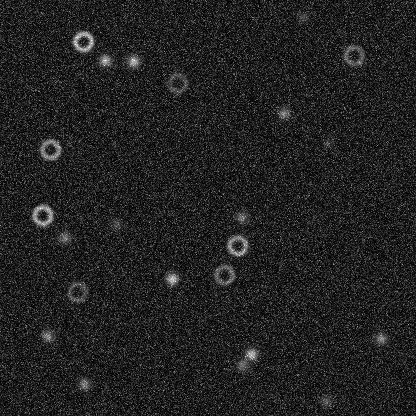Ring: (165, 70, 189, 94), (225, 233, 249, 257), (38, 137, 62, 161), (212, 262, 236, 286), (71, 29, 95, 53), (65, 279, 89, 303), (30, 203, 54, 227), (341, 43, 365, 67)
Spot: (56, 229, 72, 245), (108, 216, 124, 232), (319, 134, 335, 150), (125, 53, 141, 69), (163, 270, 179, 286), (373, 330, 389, 346), (233, 209, 249, 225), (39, 327, 55, 343), (76, 375, 92, 391), (234, 357, 250, 373), (295, 8, 311, 24), (317, 392, 333, 408), (97, 52, 113, 68), (275, 105, 291, 121), (243, 346, 259, 362)
